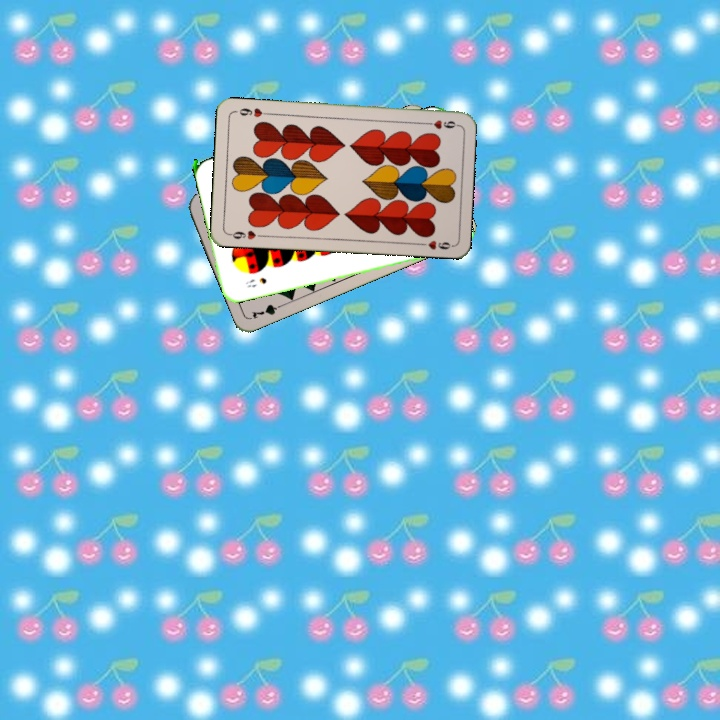G7: (247, 299, 287, 322)
H9: (225, 226, 266, 242), (420, 116, 460, 132)
S8: (242, 273, 269, 290)
